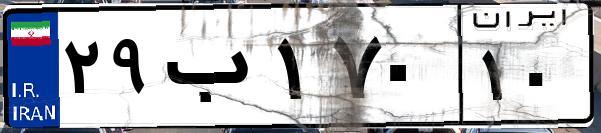0: (385, 28, 445, 110), (525, 38, 570, 115)
1: (270, 28, 330, 110), (475, 38, 525, 113)
2: (57, 26, 110, 100)
7: (330, 28, 385, 110)
9: (110, 28, 158, 98)
ب: (158, 20, 270, 120)
